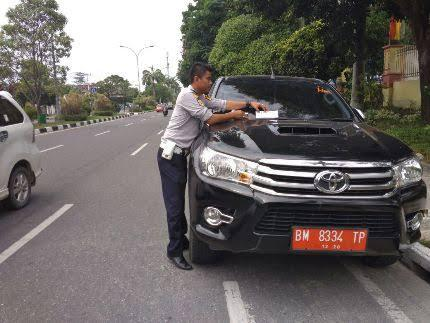plate: (291, 227, 367, 252)
